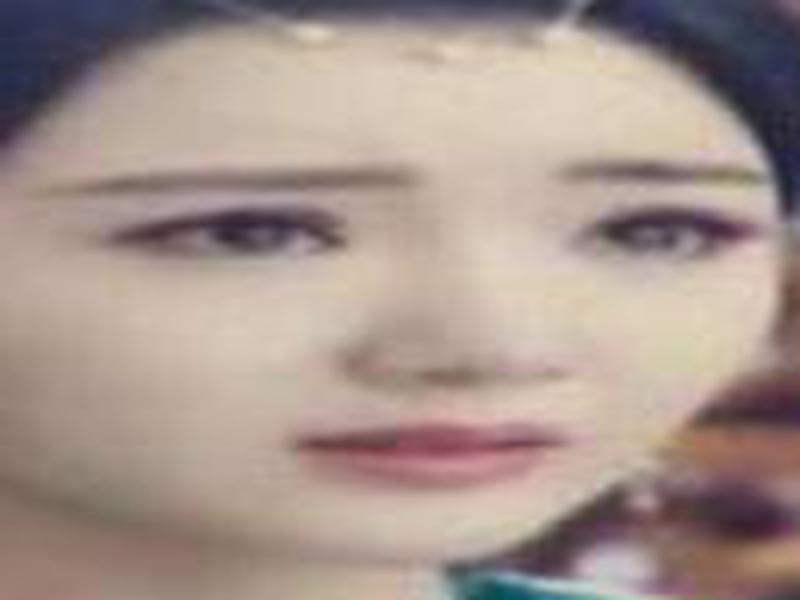without_mask: (4, 14, 783, 565)
